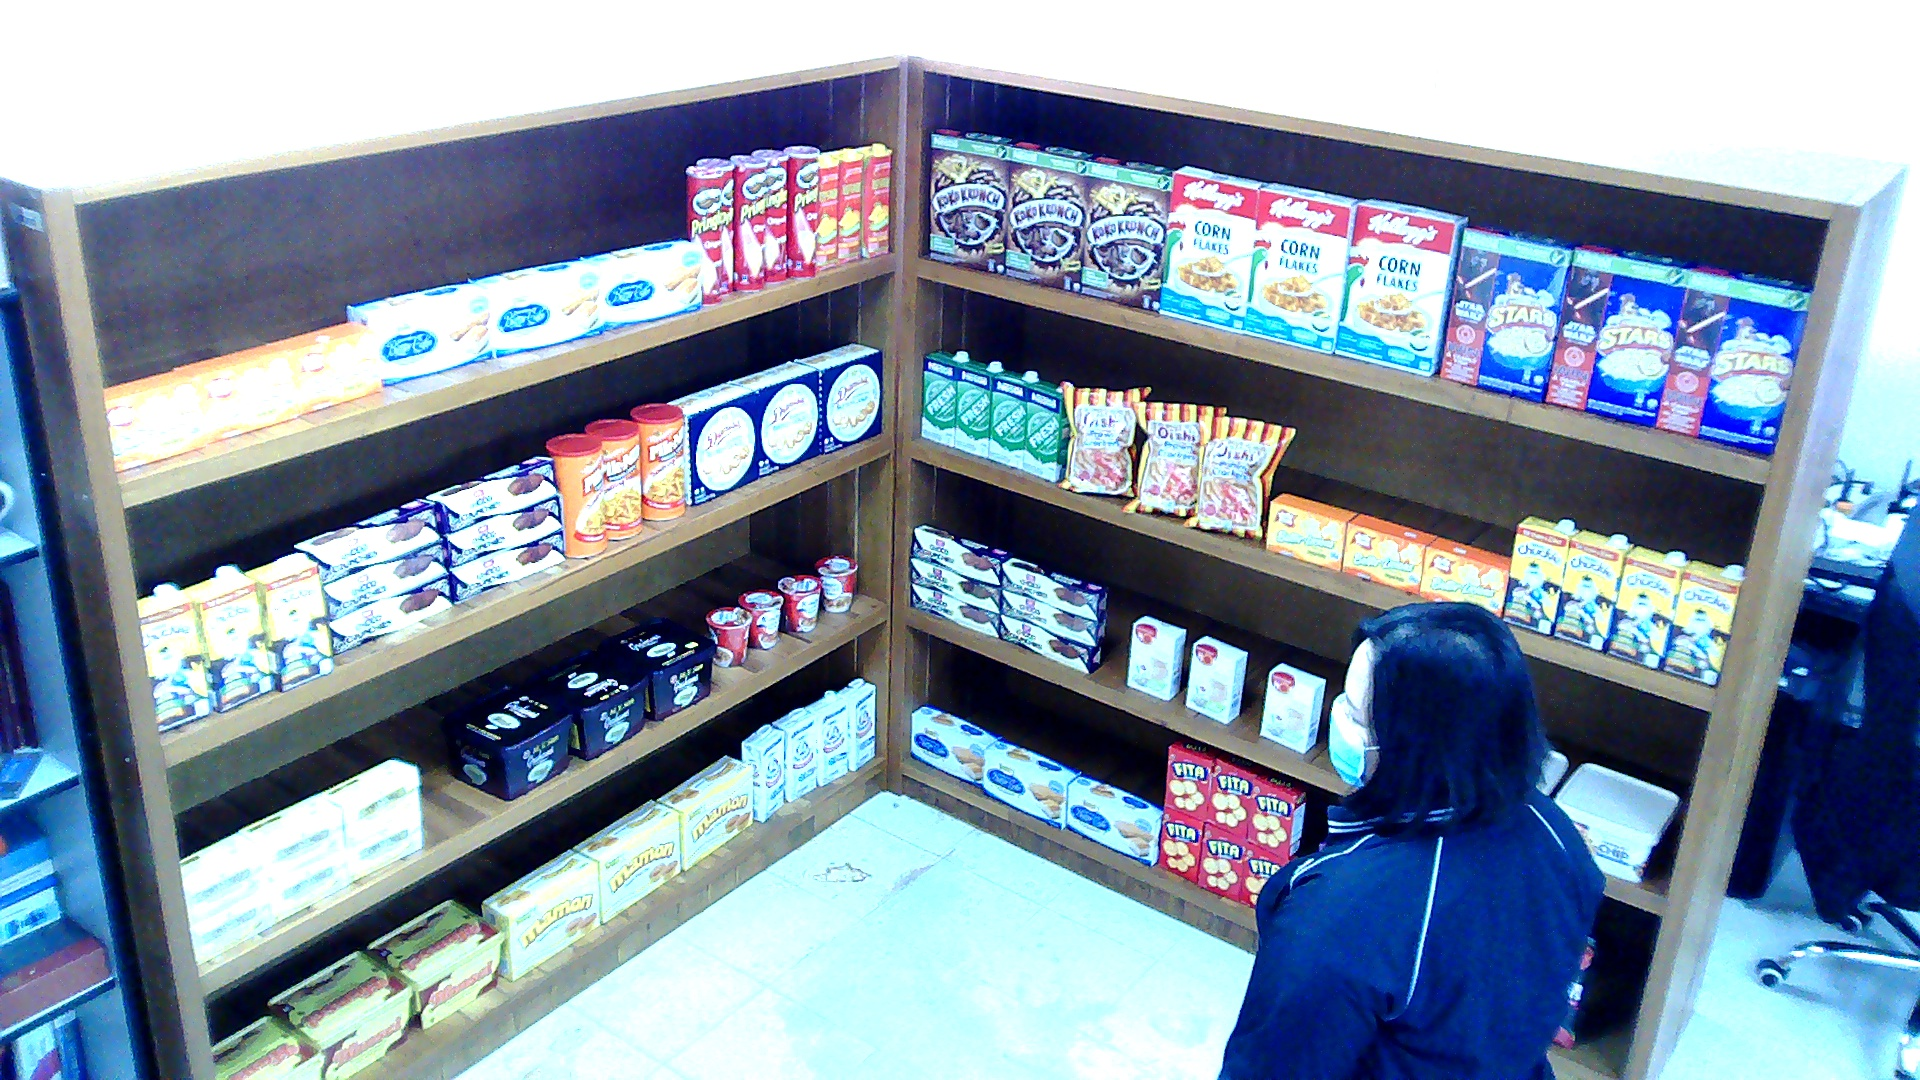Bear brand: (770, 709, 815, 801), (741, 724, 783, 821), (804, 693, 846, 785), (837, 677, 876, 769)
Buttercake: (345, 279, 492, 387), (467, 258, 602, 355), (582, 239, 702, 329)
Butterlicious: (173, 344, 296, 441), (102, 371, 204, 472), (269, 322, 380, 414), (1341, 513, 1437, 594), (1419, 536, 1509, 612), (1266, 493, 1356, 569)
Camomille: (240, 794, 342, 877), (321, 758, 417, 841), (177, 832, 264, 918), (188, 882, 269, 965), (270, 845, 351, 924), (347, 810, 422, 880)
Choco Crunchies: (293, 497, 440, 580), (423, 457, 555, 531), (329, 576, 452, 652), (323, 542, 446, 618), (450, 531, 564, 603), (444, 497, 561, 565), (1002, 555, 1107, 620), (911, 522, 1010, 585), (999, 614, 1101, 675), (1002, 590, 1107, 646), (909, 583, 999, 637), (909, 558, 999, 612)
Chocolate Chips: (1554, 762, 1683, 881)
Chuckie: (183, 565, 273, 711), (243, 553, 333, 688), (135, 585, 210, 731), (1662, 558, 1746, 686), (1608, 545, 1686, 671), (1554, 529, 1632, 653), (1503, 515, 1575, 634)
Danisa: (669, 382, 756, 504), (729, 359, 819, 476), (798, 342, 879, 452)
Fita: (1065, 774, 1161, 866), (984, 738, 1080, 828), (908, 702, 1001, 788), (1206, 751, 1266, 837), (1248, 771, 1308, 854), (1164, 737, 1221, 818), (1196, 824, 1241, 900), (1158, 806, 1203, 882), (1238, 839, 1283, 907)
Fresh Milk: (990, 368, 1038, 467), (954, 359, 1002, 456), (1022, 380, 1067, 479), (920, 348, 965, 445)
Grahams: (437, 681, 572, 800), (519, 647, 651, 760), (596, 616, 713, 719)
Hansel: (362, 898, 503, 1028), (267, 949, 411, 1075), (210, 1014, 324, 1077)
Head: (1316, 585, 1553, 835)
Honey Stars: (1656, 261, 1812, 455), (1545, 238, 1689, 425), (1439, 223, 1574, 401)
Kellogg Corn Flakes: (1335, 198, 1467, 376), (1244, 182, 1361, 351), (1157, 164, 1268, 333)
Kimchi Noodles: (704, 607, 749, 666), (738, 589, 783, 648), (812, 553, 857, 612), (776, 574, 821, 630)
Koko Krunch: (1083, 153, 1170, 310), (1005, 137, 1092, 292), (929, 126, 1016, 274)
Locally Mango: (858, 141, 891, 258), (831, 148, 861, 261), (819, 152, 837, 269)
Mamon: (480, 848, 597, 981), (573, 799, 681, 923), (657, 755, 753, 868)
Oishi Prawn: (1182, 414, 1296, 538), (1118, 402, 1223, 517), (1053, 380, 1152, 495)
Pik-nik: (543, 432, 606, 558), (584, 416, 641, 540), (630, 402, 687, 521)
Pringles: (683, 164, 722, 304), (695, 157, 734, 294), (729, 153, 765, 290), (753, 148, 789, 281), (782, 143, 815, 278)
Super Fruits: (1551, 935, 1599, 1048)
iHop: (1260, 662, 1326, 752), (1185, 634, 1248, 722), (1128, 614, 1185, 700)
